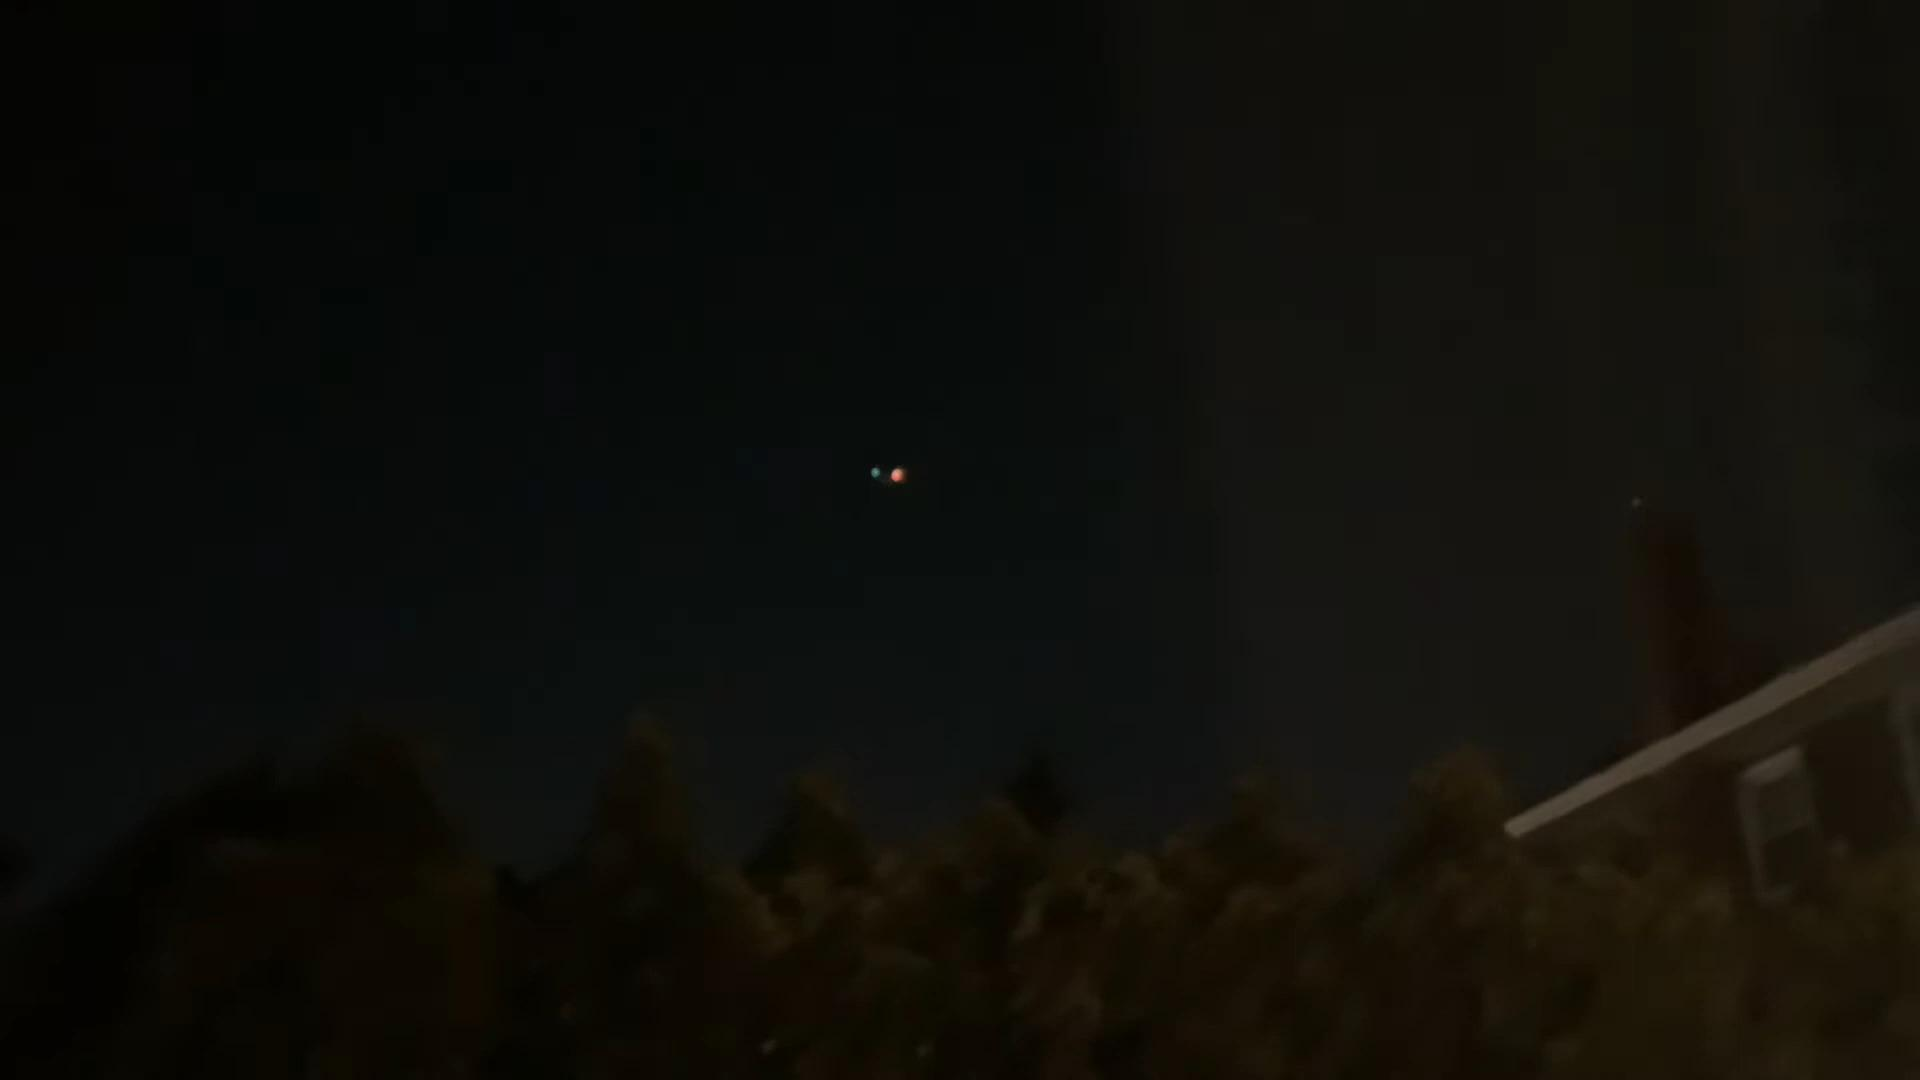Plane: (858, 451, 922, 498)
